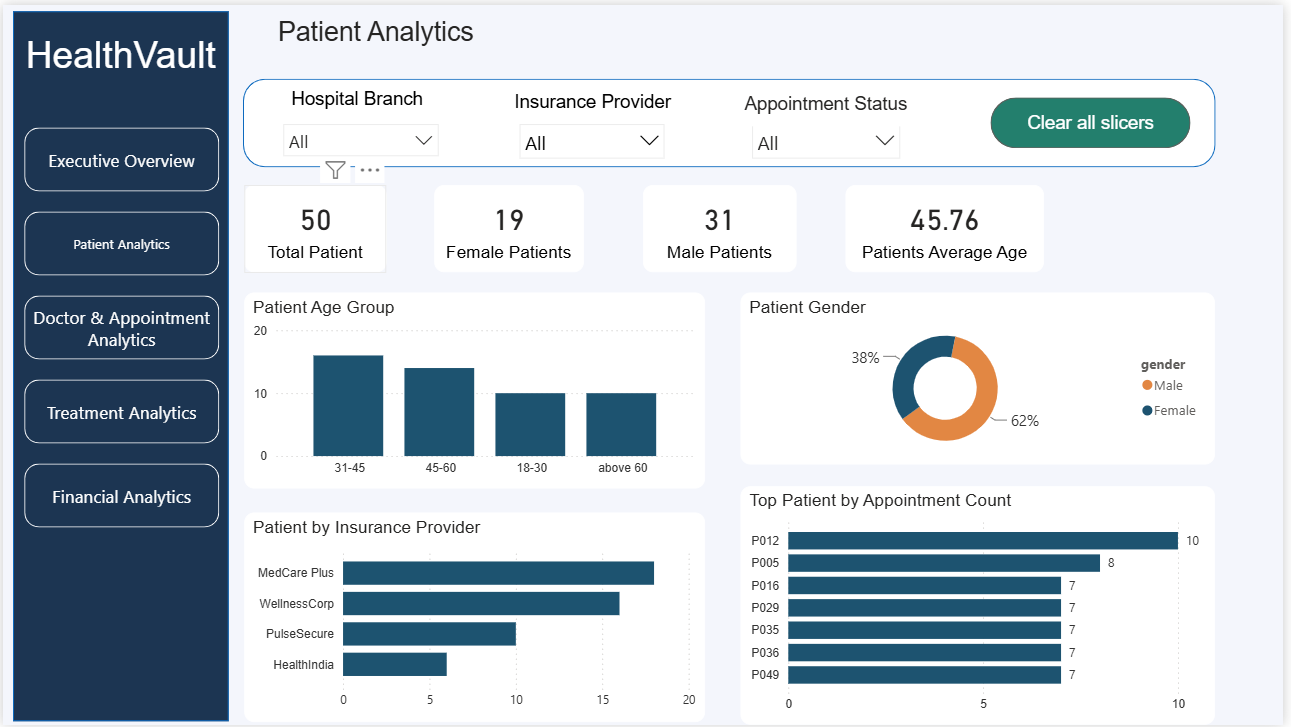

This screenshot's page, from the dashboard's own definition file:
{"tool":"powerbi","page":{"name":"Patient Analytics","canvas":[1280,720],"ordinal":1},"visuals":[{"type":"shape","box":[10,5.7,215.7,710],"z":0},{"type":"textbox","box":[9.9,23.9,215.5,63.4],"z":1000},{"type":"pageNavigator","box":[21.1,122.5,195.8,404.2],"z":2000},{"type":"textbox","box":[270,7.1,248.6,48.6],"z":3000},{"type":"shape","box":[240.6,73.9,972.5,88.4],"z":4000},{"type":"actionButton","box":[987,92.8,200,50.7],"z":5000},{"type":"card","fields":{"Values":["patient_measure.Total Patient"]},"box":[240.8,180.3,142,87],"z":6000},{"type":"card","fields":{"Values":["patient_measure.Female Patients"]},"box":[431,180.3,149.3,87.3],"z":7000},{"type":"card","fields":{"Values":["patient_measure.Male Patients"]},"box":[639.4,180.3,153.6,87],"z":8000},{"type":"card","fields":{"Values":["patient_measure.patients average age"]},"box":[842.3,180.3,198.6,87.3],"z":9000},{"type":"donutChart","title":" Patient Gender","fields":{"Category":["patients.gender"],"Y":["CountNonNull(patients.patient_id)"]},"box":[738,287.3,474.6,171.8],"z":10000},{"type":"columnChart","title":"Patient Age Group","fields":{"Category":["patients.age group"],"Y":["CountNonNull(patients.patient_id)"]},"box":[240.8,287.3,460.6,195.8],"z":11000},{"type":"clusteredBarChart","title":"Patient by Insurance Provider","fields":{"Category":["patients.insurance_provider"],"Y":["CountNonNull(patients.patient_id)"]},"box":[240.8,507,460.6,209.9],"z":12000},{"type":"clusteredBarChart","title":"Top Patient by Appointment Count","fields":{"Category":["patients.patient_id"],"Y":["CountNonNull(appointments.appointment_id)"]},"box":[738,481.7,474.6,238],"z":13000},{"type":"textbox","box":[262.5,78.8,182.6,42],"z":14000},{"type":"textbox","box":[505.6,80.6,178.3,37.7],"z":15000},{"type":"slicer","fields":{"Values":["doctors.hospital_branch"]},"box":[269.6,108.7,175.4,44.9],"z":16000},{"type":"slicer","fields":{"Values":["patients.insurance_provider"]},"box":[505.8,108.7,165.2,47.8],"z":17000},{"type":"slicer","fields":{"Values":["appointments.status"]},"box":[739.1,108.7,168.1,50.7],"z":18000},{"type":"textbox","box":[724.6,84.1,195.7,37.7],"z":19000}]}

Visuals, with their boxes in screenshot pixels (x1, y1, x2, y2), scaled from the page's 1280x720 canvas onto the 1291x727 screenshot:
shape: (left=10, top=6, right=228, bottom=723)
textbox: (left=10, top=24, right=227, bottom=88)
pageNavigator: (left=21, top=124, right=219, bottom=532)
textbox: (left=272, top=7, right=523, bottom=56)
shape: (left=243, top=75, right=1224, bottom=164)
actionButton: (left=995, top=94, right=1197, bottom=145)
card - patient_measure.Total Patient: (left=243, top=182, right=386, bottom=270)
card - patient_measure.Female Patients: (left=435, top=182, right=585, bottom=270)
card - patient_measure.Male Patients: (left=645, top=182, right=800, bottom=270)
card - patient_measure.patients average age: (left=850, top=182, right=1050, bottom=270)
" Patient Gender" donutChart: (left=744, top=290, right=1223, bottom=464)
"Patient Age Group" columnChart: (left=243, top=290, right=707, bottom=488)
"Patient by Insurance Provider" clusteredBarChart: (left=243, top=512, right=707, bottom=724)
"Top Patient by Appointment Count" clusteredBarChart: (left=744, top=486, right=1223, bottom=726)
textbox: (left=265, top=80, right=449, bottom=122)
textbox: (left=510, top=81, right=690, bottom=119)
slicer - doctors.hospital_branch: (left=272, top=110, right=449, bottom=155)
slicer - patients.insurance_provider: (left=510, top=110, right=677, bottom=158)
slicer - appointments.status: (left=745, top=110, right=915, bottom=161)
textbox: (left=731, top=85, right=928, bottom=123)
